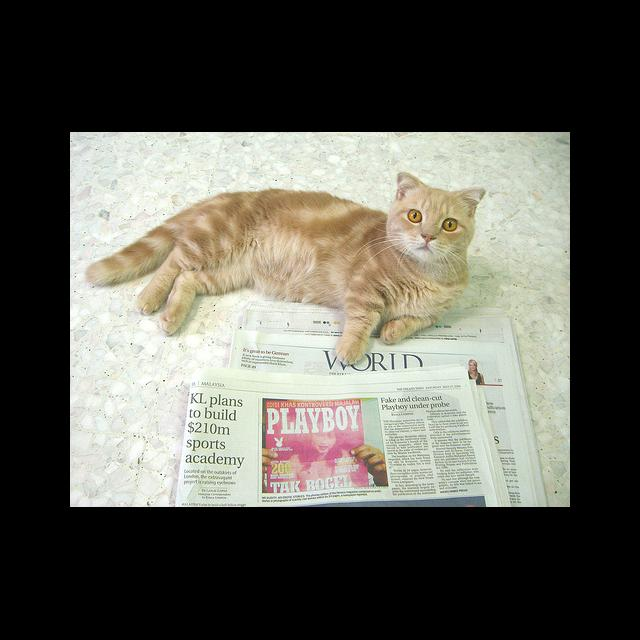animals: (397, 174, 484, 242)
